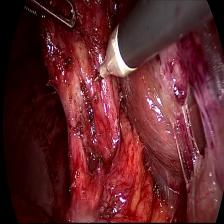Grasper: (19, 0, 79, 36)
Hook: (94, 22, 123, 86)
